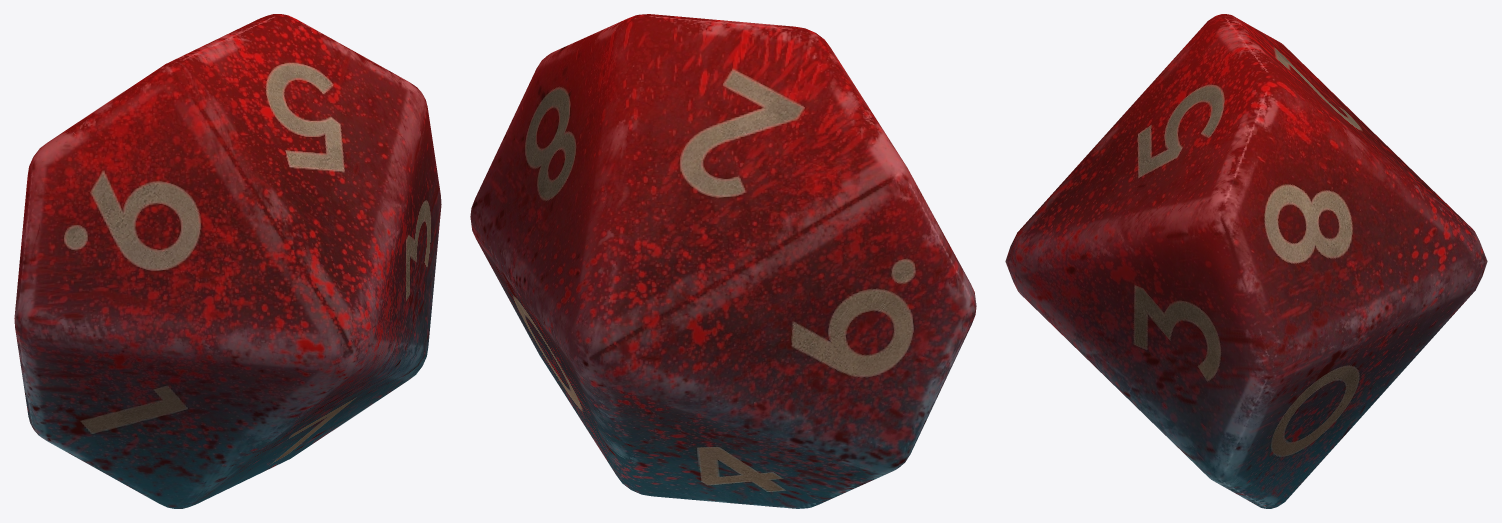
The model's file is TPK_d10.gltf.
The picture shows the model from 3 angles, left to right: view 1: azimuth 30°, elevation 25°; view 2: azimuth 150°, elevation 25°; view 3: azimuth 270°, elevation 25°; orthographic projection. The views are drawn at different scales.
Visible parts, largest first — view 1: dice_10; view 2: dice_10; view 3: dice_10.
Boxes of the visible parts, <box> form: dice_10: <box>14,14,441,508</box>; dice_10: <box>470,14,976,508</box>; dice_10: <box>1005,14,1487,508</box>.
Size of the model in its own units: 171 by 164 by 165.
Materials: 1 (1 with a texture image).
